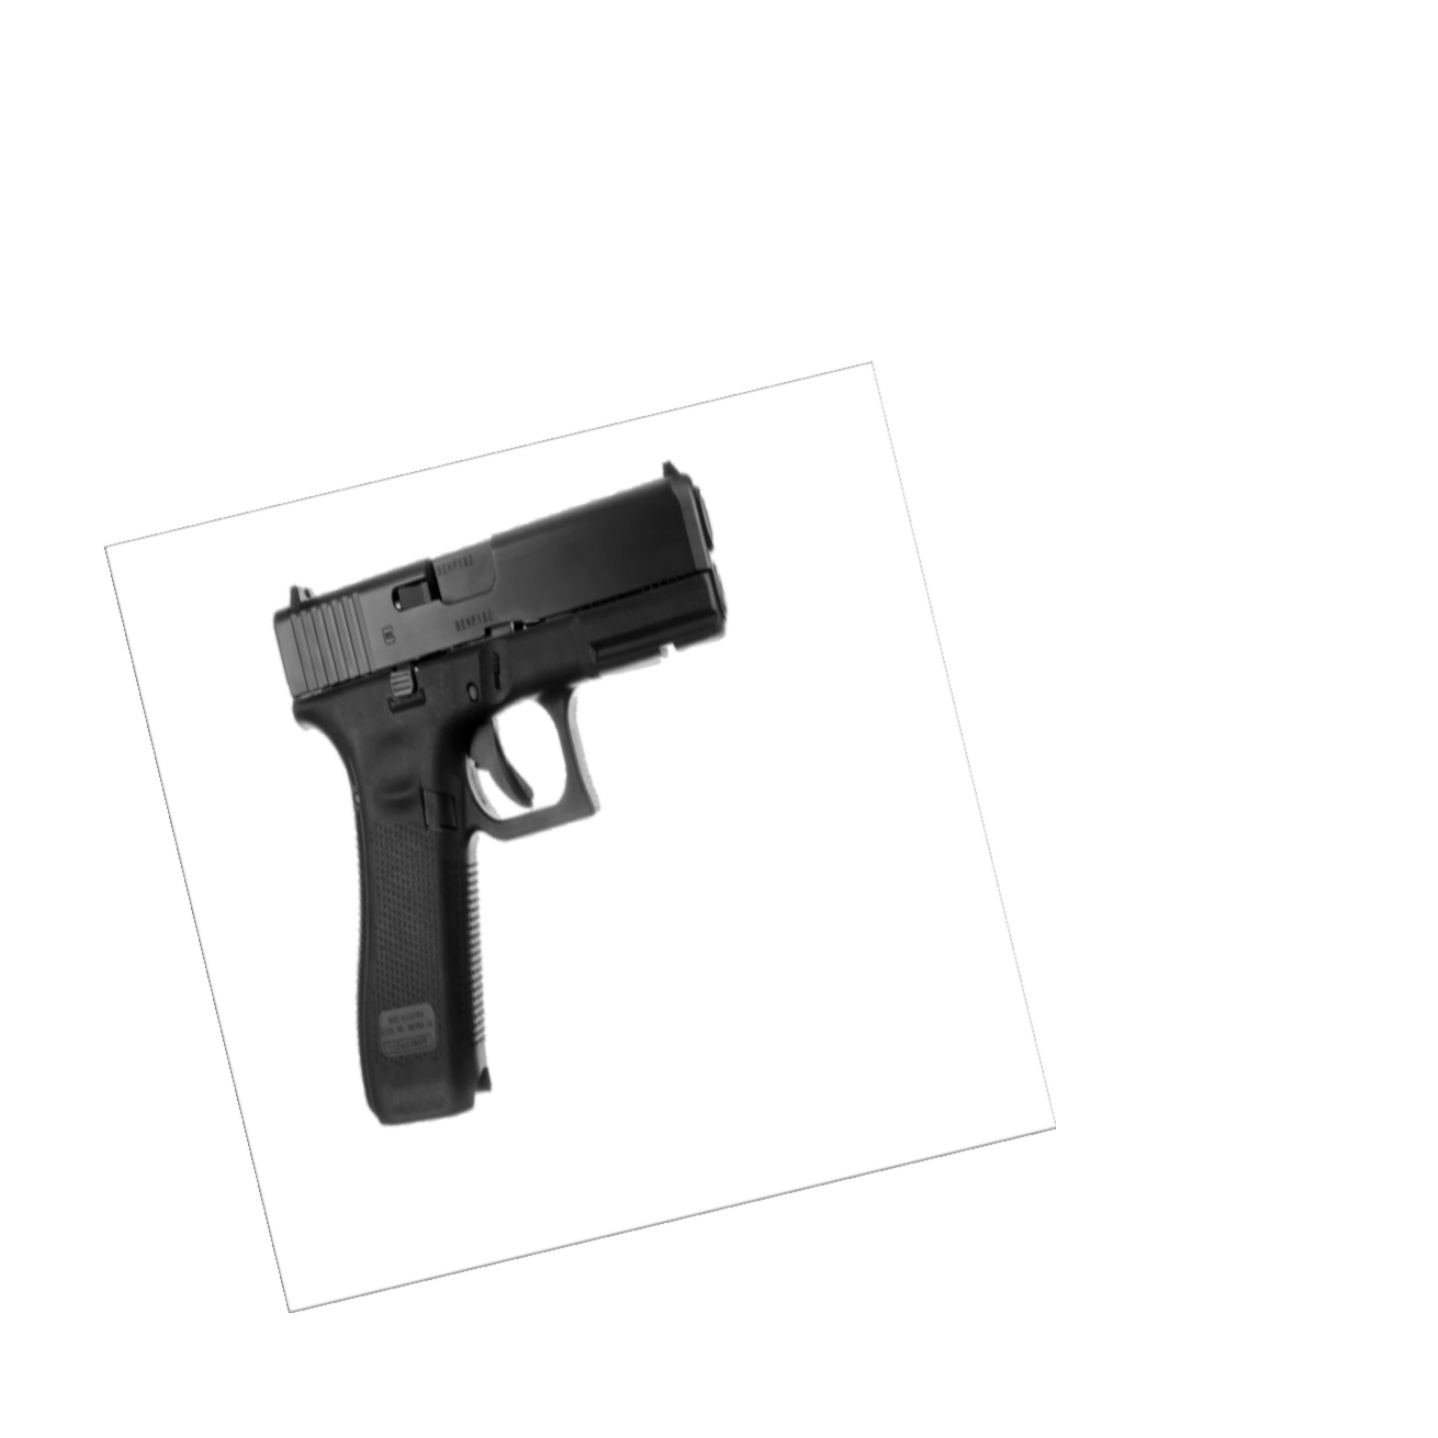gun: (259, 460, 745, 1136)
